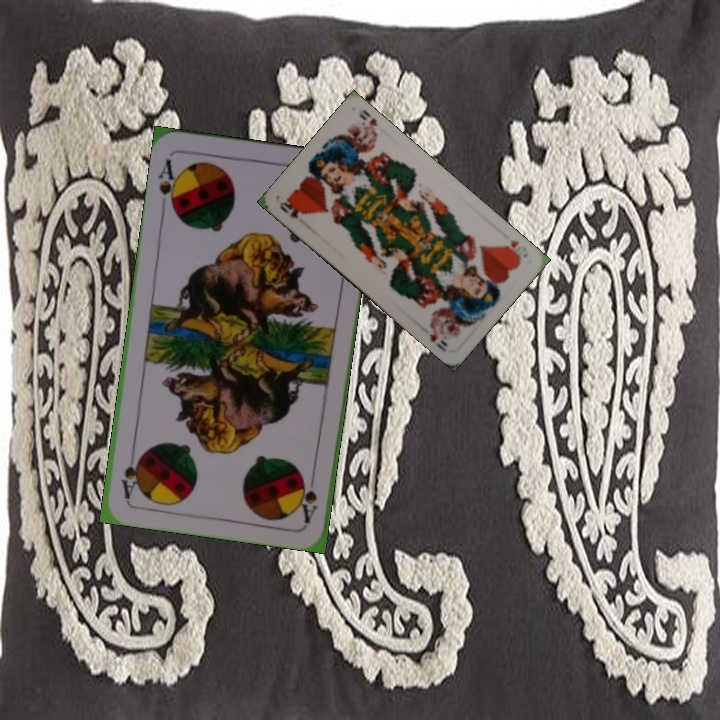HO: (275, 197, 306, 221), (499, 236, 524, 262)
SA: (154, 155, 182, 213), (296, 466, 320, 525)
